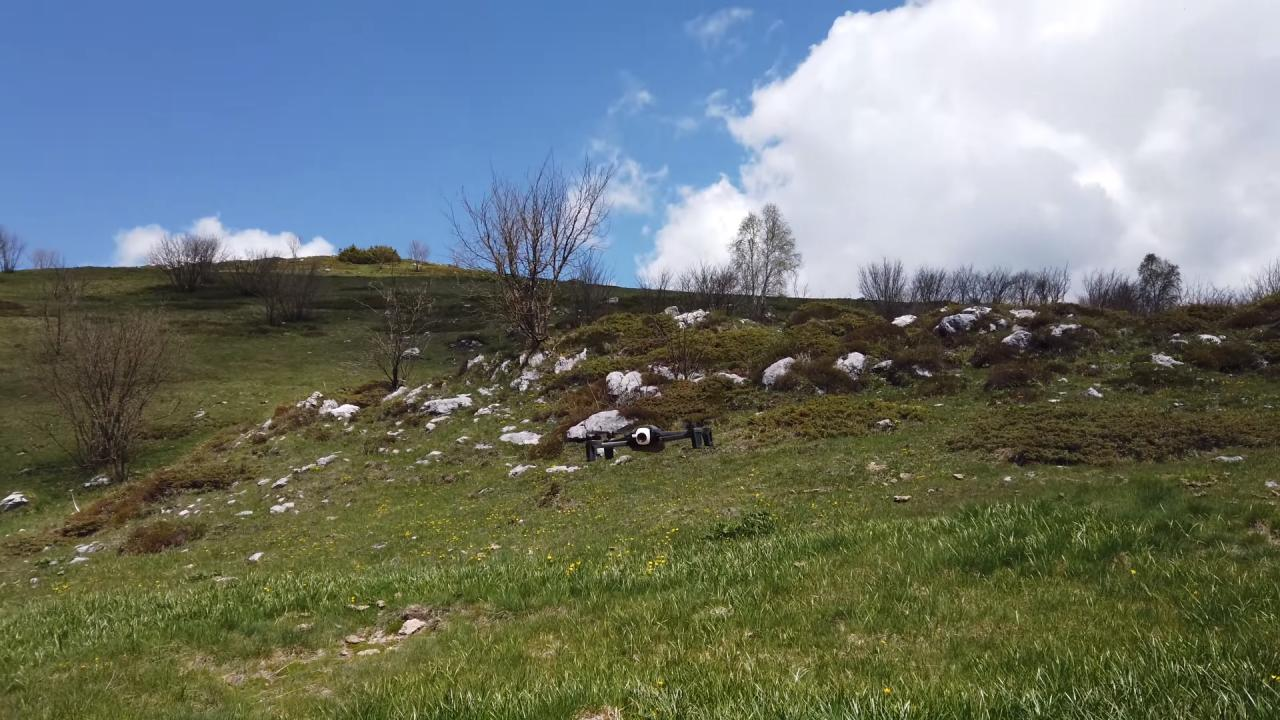Drone: (562, 416, 725, 468)
